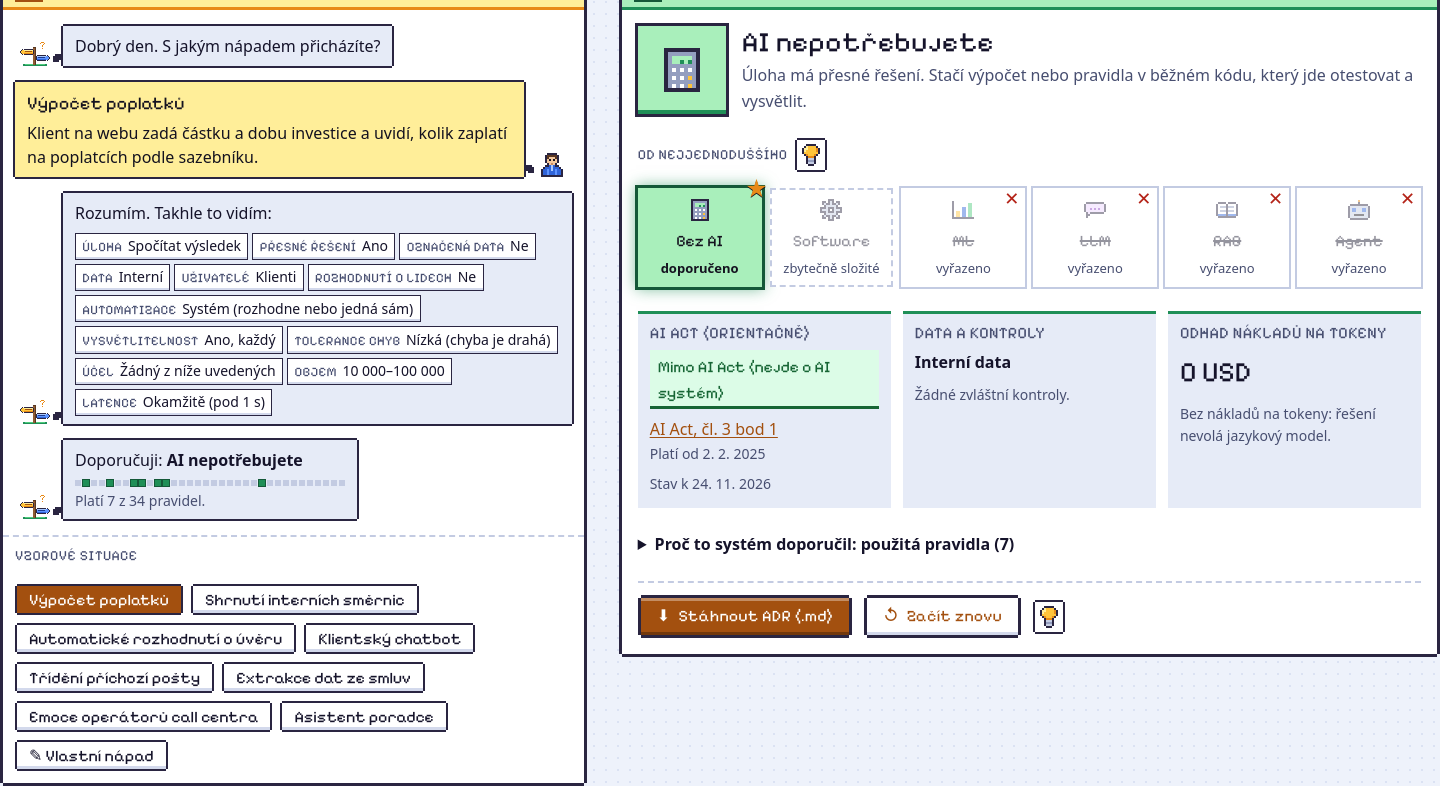
Test: IntakePage › an own idea: twelve questions answered by clicks, then the recommendation
Later steps or results of the test are not shown.
(page scrolled)
Click the button "✎ Vlastní nápad": (91, 755) [17,742,166,769]
(page scrolled)
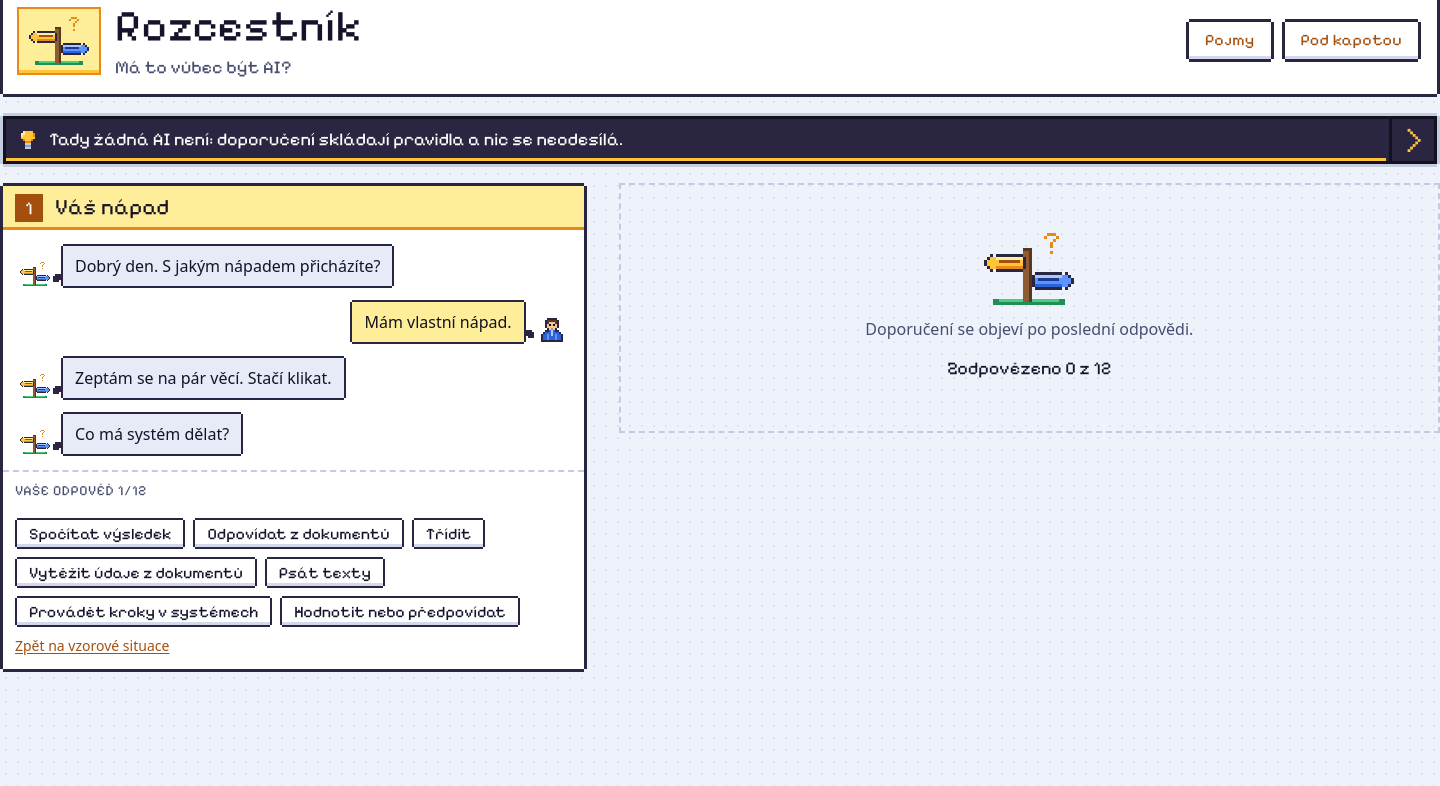
Check: the element with test id "intake-waiting" is shown, box [619,183,1439,433]
